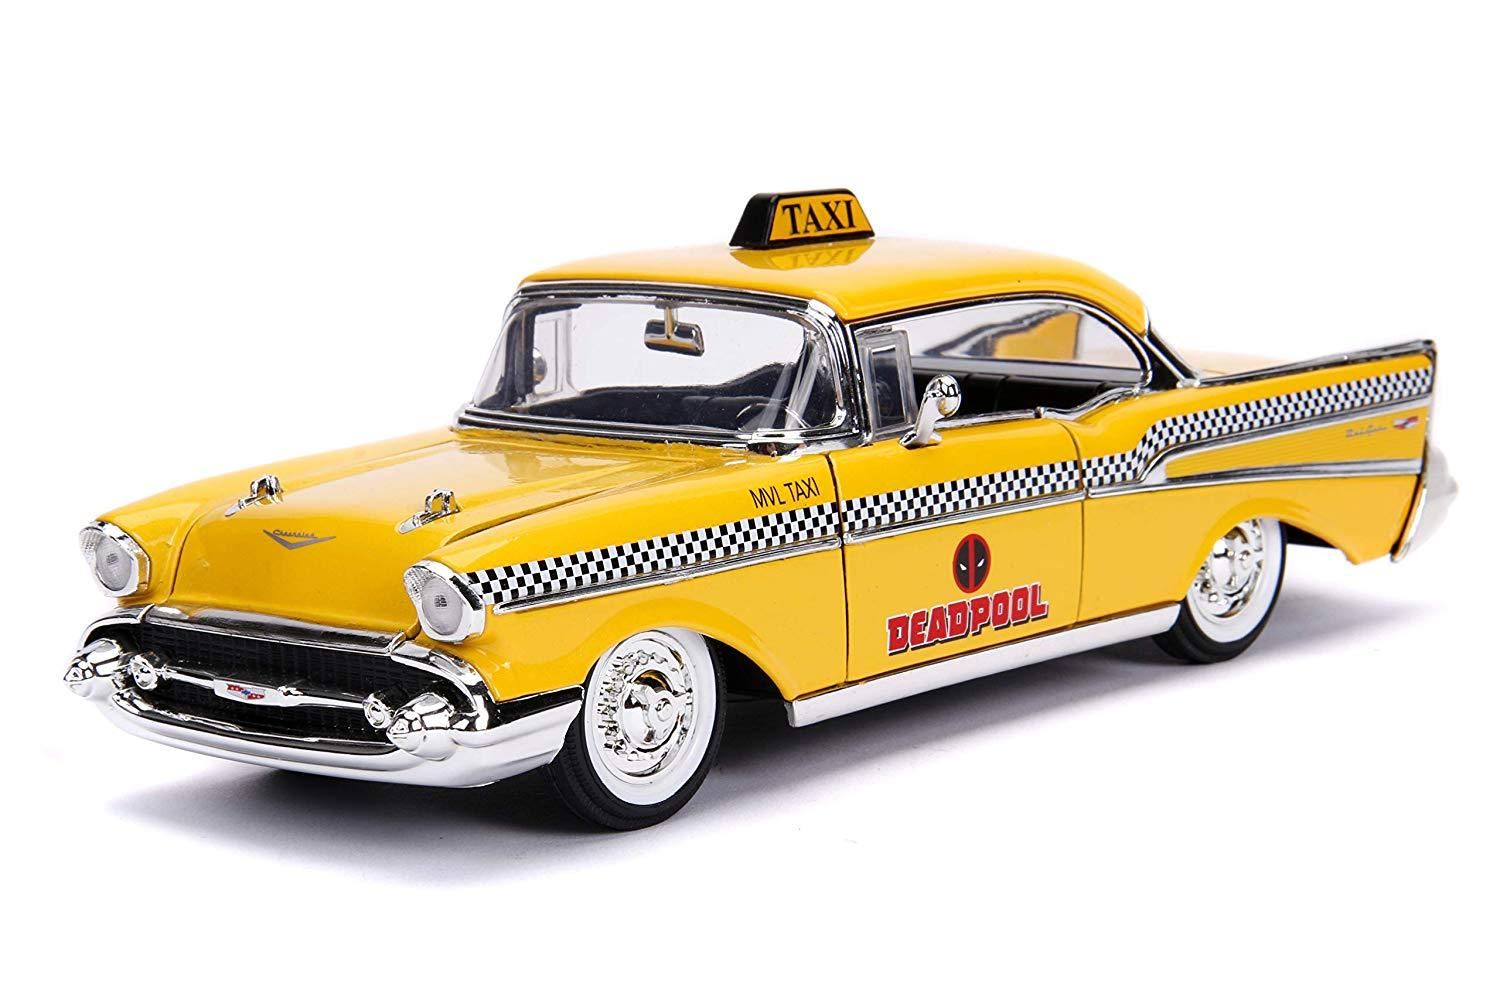taxi: (58, 143, 1500, 827)
